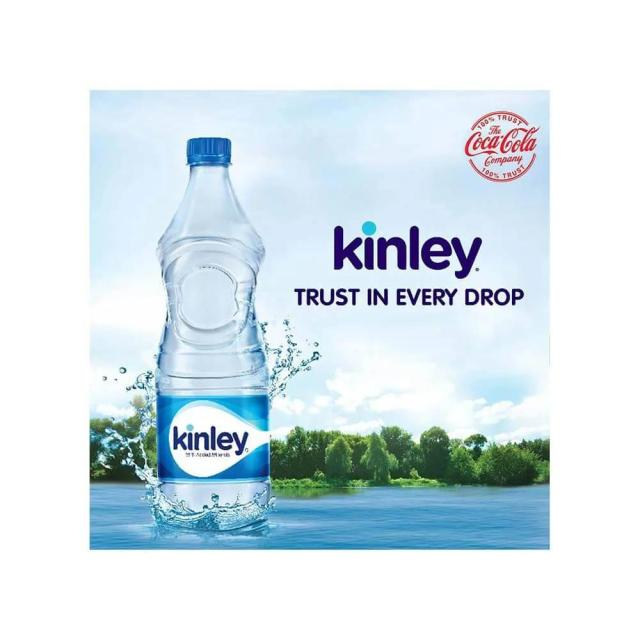bottle: (150, 121, 282, 532)
